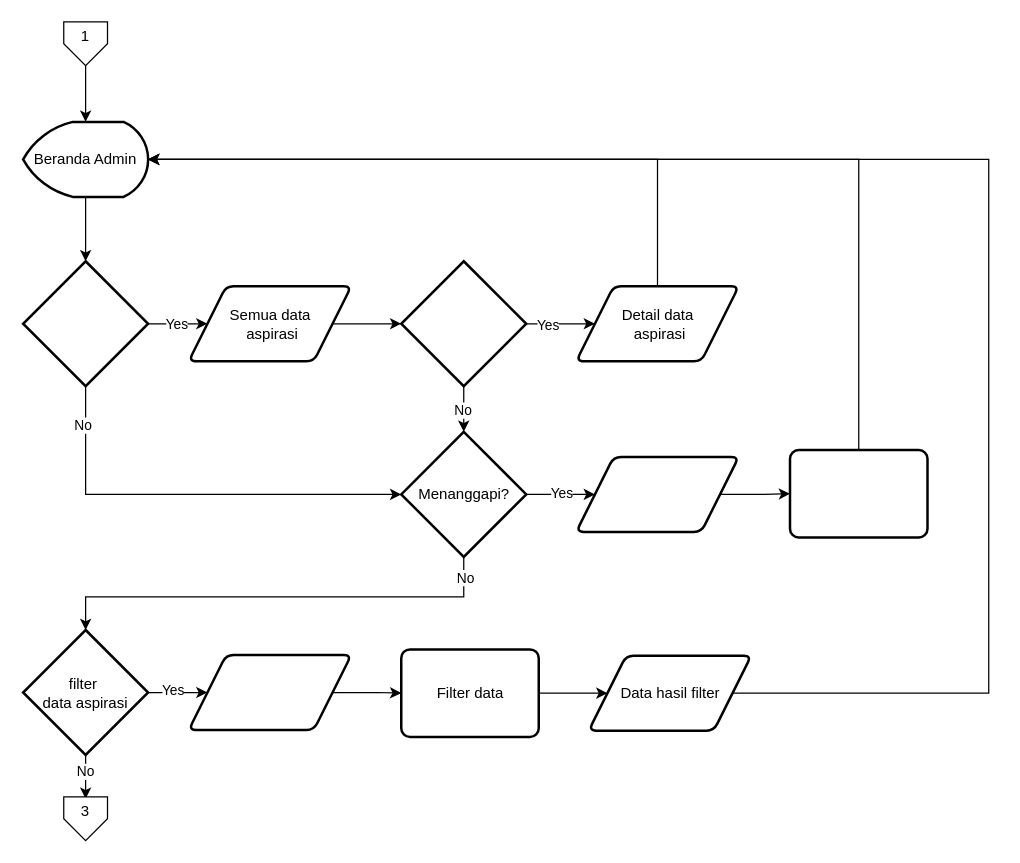
Image size: 1020x863. Some labels were removed from this diagram. Each missing label, with the centre of its shape:
"lihat data aspirasi" belongs at point 463,323.
"Lihat semua data aspirasi?" belongs at point 85,323.
"mengirim tanggapan" belongs at point 858,493.
"pilih kategori filter data" belongs at point 269,692.
"Tanggapi aspirasi" belongs at point 656,493.
